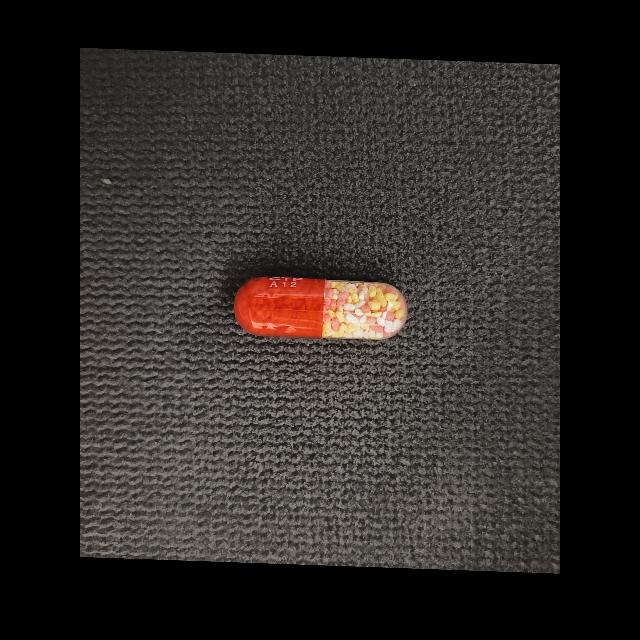Intact Capsule: (234, 277, 407, 340)
